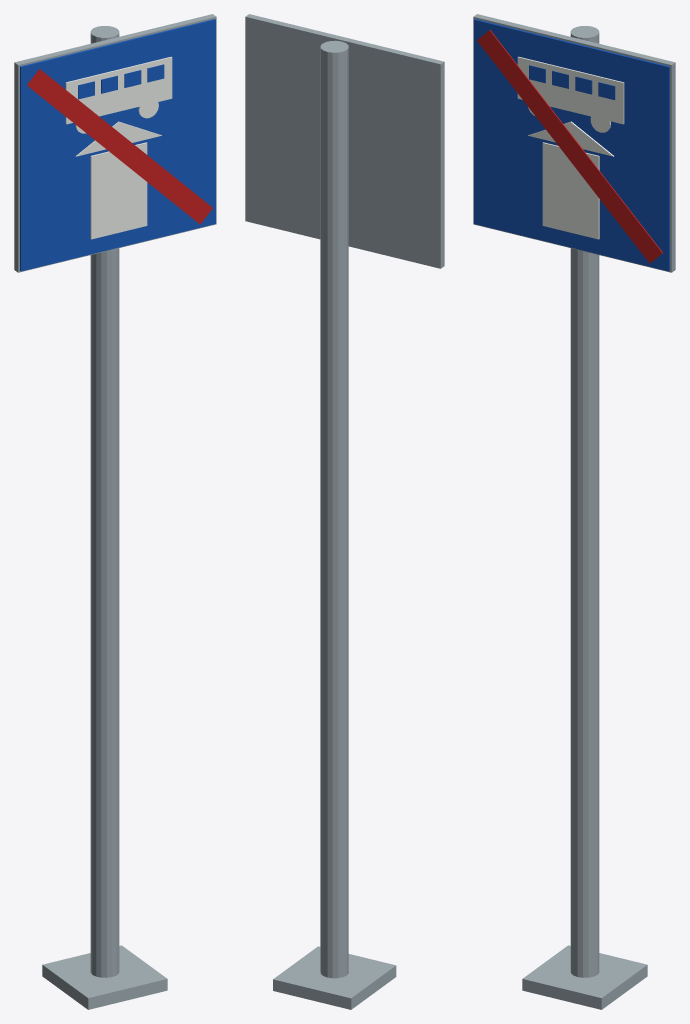
File: PT_Sign_5_14_1_BusLaneEnd.glb
3 views of the same model, side by side, from view 1: azimuth 30°, elevation 25°; view 2: azimuth 150°, elevation 25°; view 3: azimuth 330°, elevation 25° (orthographic).
Parts seen in each view (by area): view 1: Face_Blue, Post, Pictogram, EndStripe, Plate_Back, Pictogram_Windows; view 2: Plate_Back, Post; view 3: Face_Blue, Post, Pictogram, EndStripe, Plate_Back, Pictogram_Windows.
Part boxes in pixels (box(x1,y1,x2,y2)): Face_Blue: box(20, 19, 215, 271); Post: box(42, 26, 167, 1009); Pictogram: box(65, 56, 172, 239); EndStripe: box(27, 69, 212, 224); Plate_Back: box(14, 14, 216, 272); Pictogram_Windows: box(78, 64, 164, 99); Plate_Back: box(245, 14, 444, 268); Post: box(273, 40, 396, 1009); Face_Blue: box(474, 19, 669, 271); Post: box(522, 26, 647, 1009); Pictogram: box(517, 56, 624, 239); EndStripe: box(477, 30, 662, 263); Plate_Back: box(473, 14, 675, 272); Pictogram_Windows: box(529, 65, 615, 100).
Bounding box in the file's own units: 0.6 × 2.75 × 0.24.
